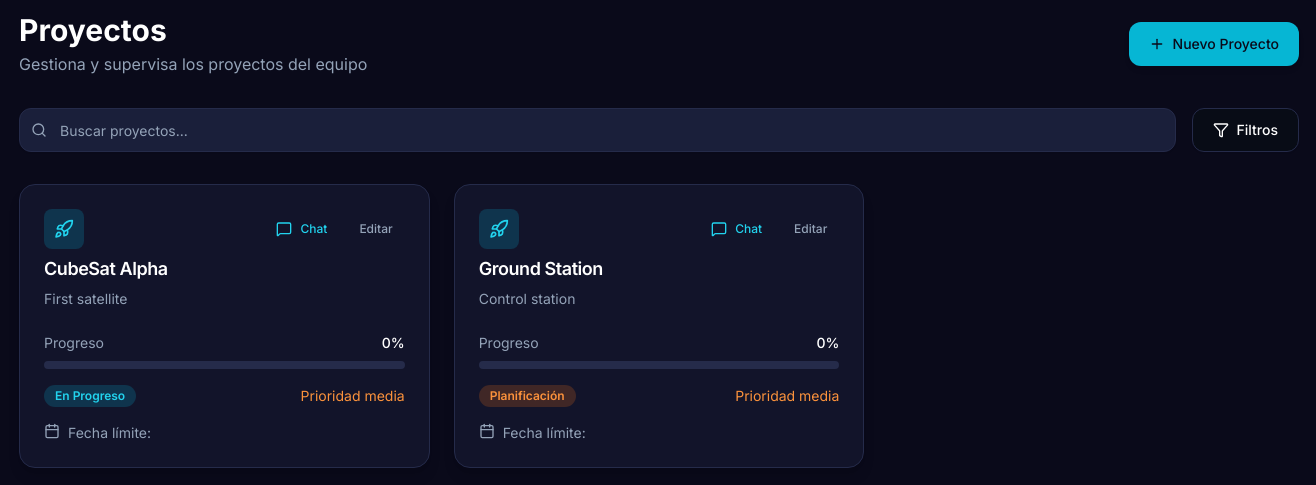
Scenario: Projects › filters projects by search query
Expected: the heading "CubeSat Alpha" is shown, x1=44 y1=258 x2=168 y2=279
Type "Ground" into the field with placeholder "Buscar proyectos...".
click(597, 130); type("Ground")  # box x1=19 y1=108 x2=1176 y2=152
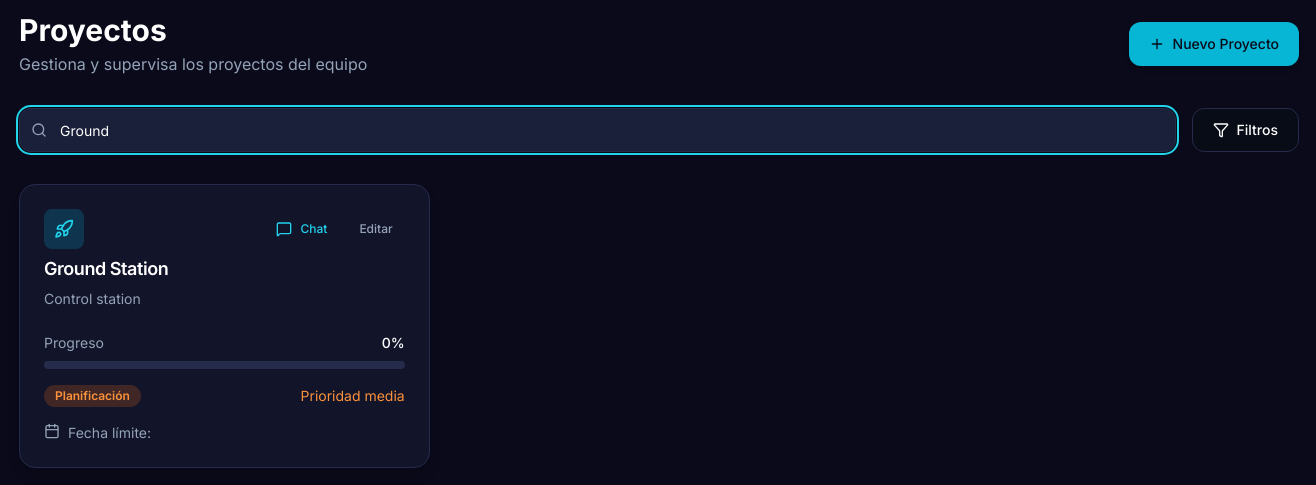
Expected: the heading "Ground Station" is shown, x1=44 y1=258 x2=168 y2=279
Now the heading "CubeSat Alpha" is gone
